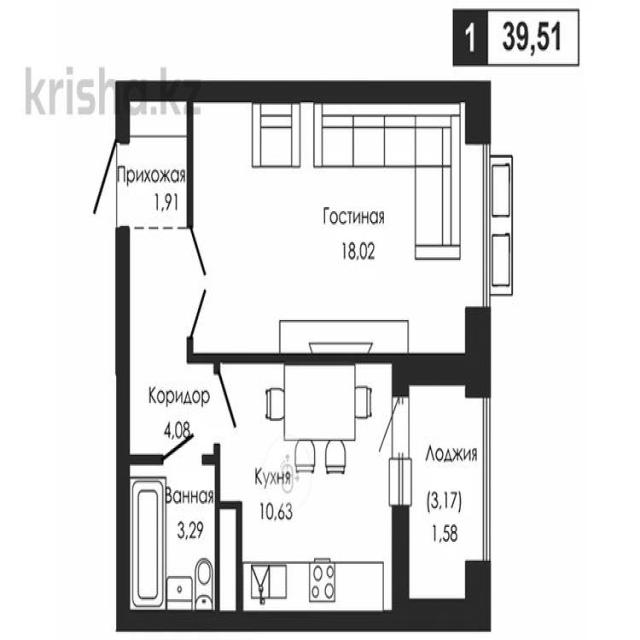bathroom: (129, 462, 215, 616)
hallway: (111, 86, 191, 227), (124, 360, 217, 459)
kitchen: (220, 360, 399, 626)
living_room: (194, 92, 475, 359)
other: (406, 363, 484, 620)
